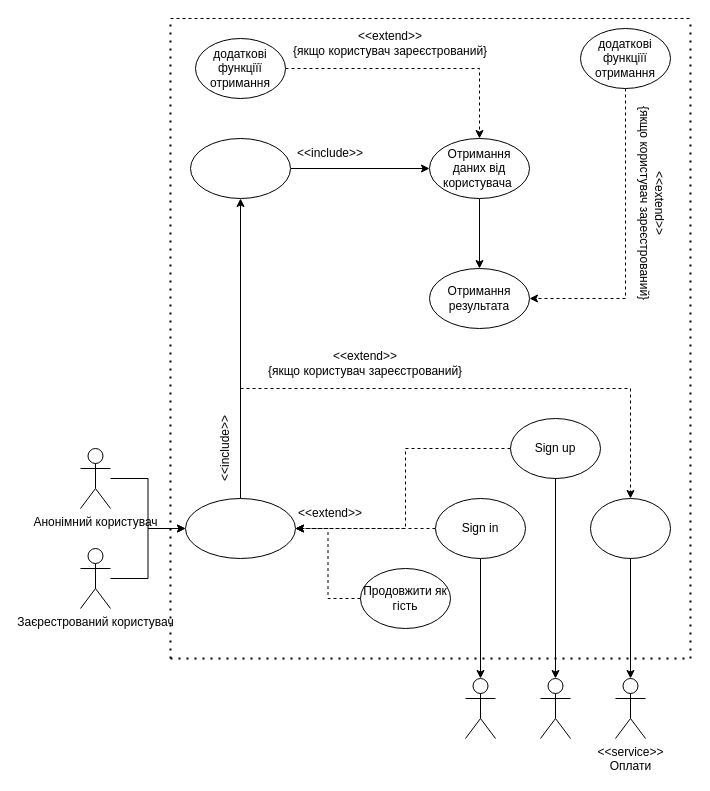
The diagram is 710 pixels wide and 791 high, and some of its shapes have lost their labels. The centre of each missing label's shape, as x and y in pixels:
<<service>> Аутентифікація: point (480, 708)
<<service>> Реєстрація: point (555, 708)
Завантаження головної сторінки: point (240, 528)
Підписка: point (630, 528)
Функція Розпізнавання контету: point (240, 168)
